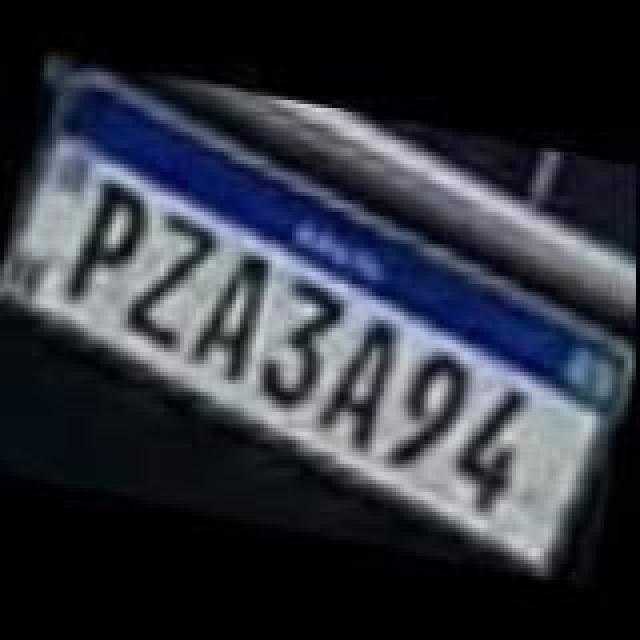3: (248, 272, 344, 416)
4: (448, 376, 536, 520)
9: (376, 340, 476, 480)
A: (314, 308, 402, 452), (184, 240, 272, 380)
P: (64, 174, 160, 314)
Z: (114, 204, 222, 352)
